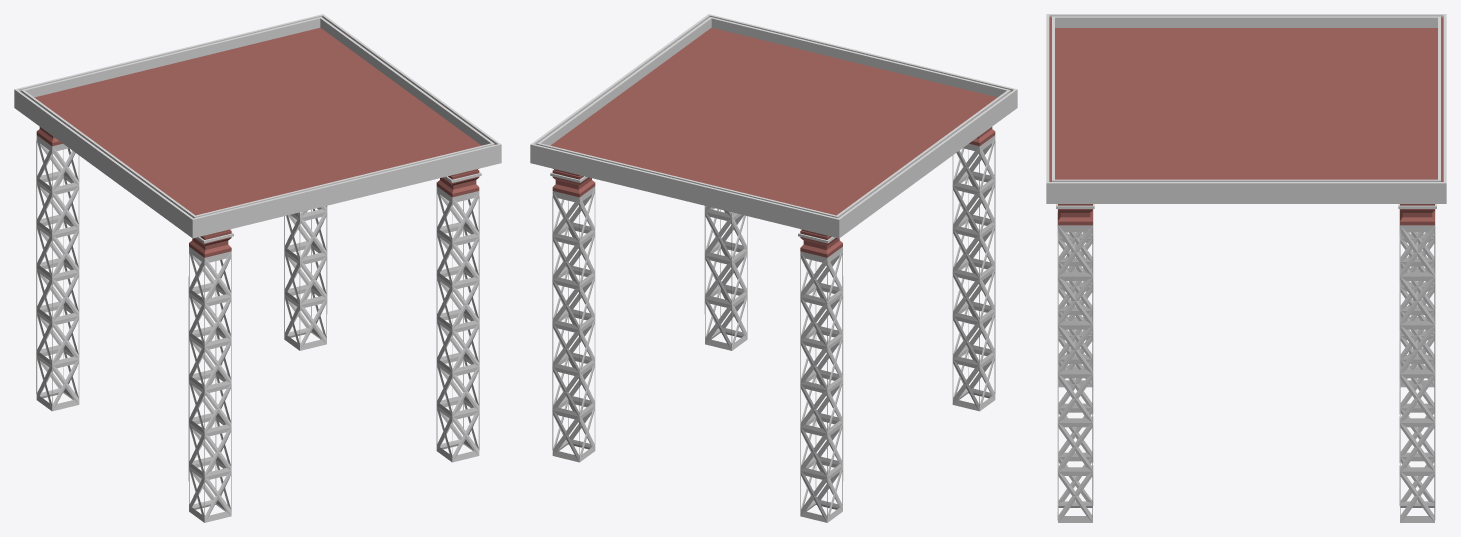
The model's file is Astillero_AssetsHarbor.fbx.
The picture shows the model from 3 angles, left to right: view 1: azimuth 30°, elevation 25°; view 2: azimuth 150°, elevation 25°; view 3: azimuth 270°, elevation 25°; orthographic projection. The views are drawn at different scales.
Parts seen in each view (by area): view 1: Astillero, Astillero.Colums; view 2: Astillero, Astillero.Colums; view 3: Astillero, Astillero.Colums.
Boxes of the visible parts, <box> form: Astillero: <box>14,14,501,238</box>; Astillero.Colums: <box>36,127,481,522</box>; Astillero: <box>530,14,1017,238</box>; Astillero.Colums: <box>550,127,995,522</box>; Astillero: <box>1046,14,1446,203</box>; Astillero.Colums: <box>1056,204,1436,522</box>.
Bounding box in the file's own units: 2313 × 2226 × 2313.
